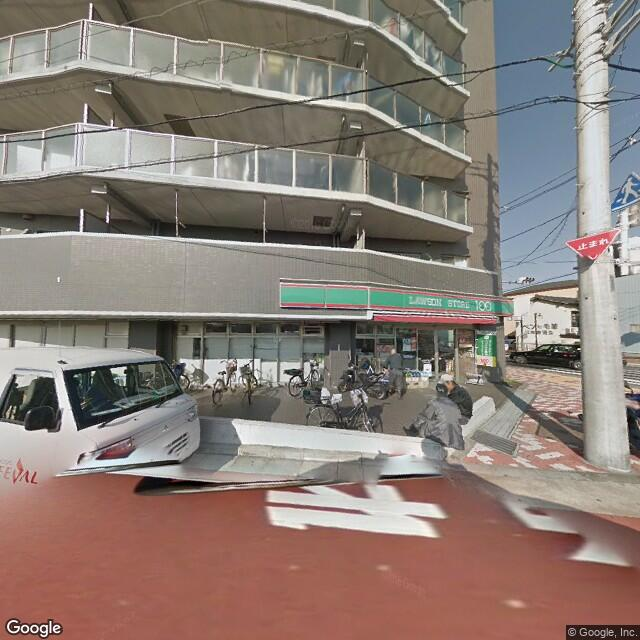lawson: (279, 271, 514, 321)
